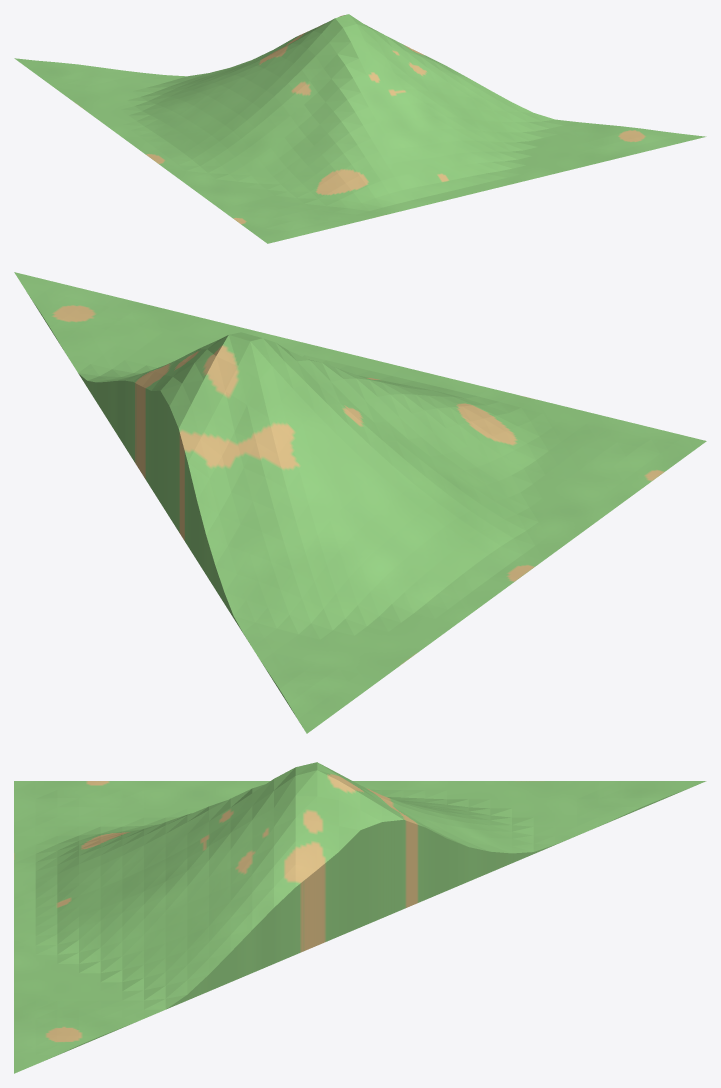
Rendered from Grass_Hills_10_NW.obj.
The picture shows the model from 3 angles, top to bottom: view 1: azimuth 30°, elevation 25°; view 2: azimuth 150°, elevation 25°; view 3: azimuth 270°, elevation 25°; orthographic projection. The views are drawn at different scales.
Size of the model in its own units: 10 by 2.21 by 10.
Materials: 1 (1 with a texture image).
